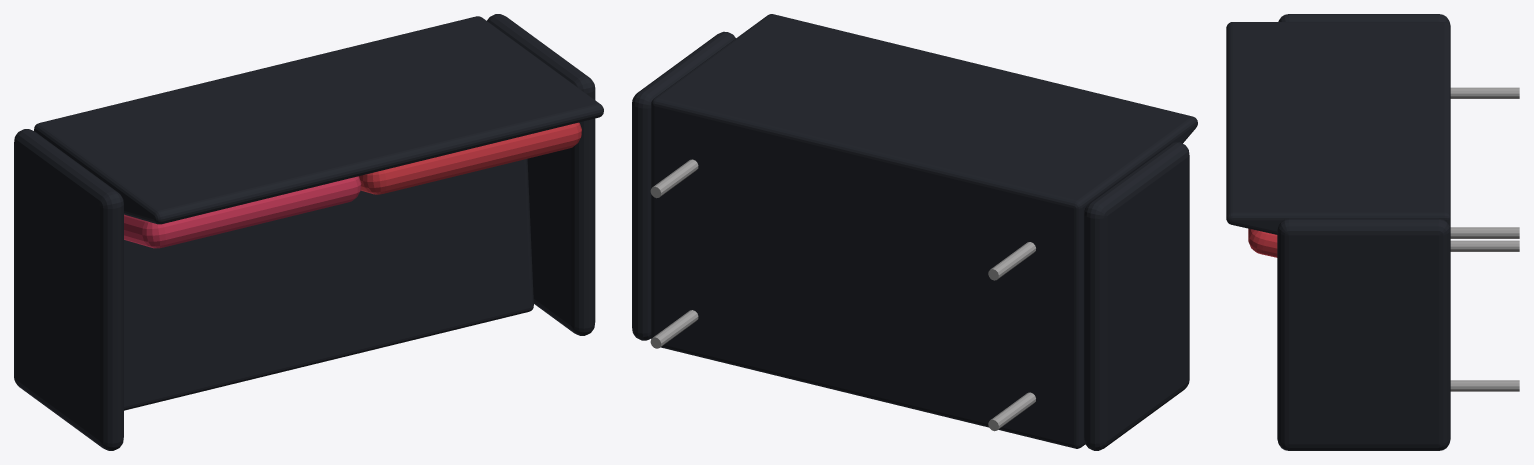
The model's file is sofa.obj.
The picture shows the model from 3 angles, left to right: view 1: azimuth 30°, elevation 25°; view 2: azimuth 150°, elevation 25°; view 3: azimuth 270°, elevation 25°; orthographic projection. The views are drawn at different scales.
Visible parts, largest first — view 1: Object.9, Object.8, Object.2, Object.6, Object.1; view 2: Object.9, Object.8, Object.2, Object.4, Object.3, Object.7, Object.5; view 3: Object.9, Object.2, Object.8, Object.5, Object.7, Object.3, Object.4, Object.1.
Boxes of the visible parts, x1=… form: Object.9: x1=34, y1=16, x2=603, y2=410; Object.8: x1=14, y1=129, x2=123, y2=450; Object.2: x1=487, y1=14, x2=595, y2=335; Object.6: x1=124, y1=176, x2=361, y2=248; Object.1: x1=359, y1=122, x2=581, y2=194; Object.9: x1=651, y1=14, x2=1197, y2=448; Object.8: x1=1084, y1=142, x2=1189, y2=450; Object.2: x1=632, y1=31, x2=735, y2=340; Object.4: x1=650, y1=159, x2=698, y2=198; Object.3: x1=988, y1=242, x2=1035, y2=280; Object.7: x1=650, y1=310, x2=698, y2=348; Object.5: x1=988, y1=392, x2=1035, y2=431; Object.9: x1=1226, y1=22, x2=1450, y2=234; Object.2: x1=1277, y1=218, x2=1450, y2=450; Object.8: x1=1278, y1=14, x2=1450, y2=26; Object.5: x1=1450, y1=227, x2=1519, y2=238; Object.7: x1=1450, y1=380, x2=1519, y2=391; Object.3: x1=1450, y1=87, x2=1519, y2=98; Object.4: x1=1450, y1=240, x2=1519, y2=251; Object.1: x1=1248, y1=228, x2=1277, y2=257.
Size of the model in its own units: 20.79 by 10.39 by 12.02.
